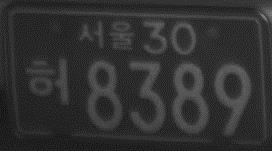0: (169, 19, 196, 57)
3: (126, 59, 166, 134), (140, 19, 167, 56)
8: (84, 58, 125, 130), (172, 61, 209, 133)
9: (211, 60, 252, 137)
서울_O: (78, 19, 138, 53)
허: (22, 57, 72, 107)
